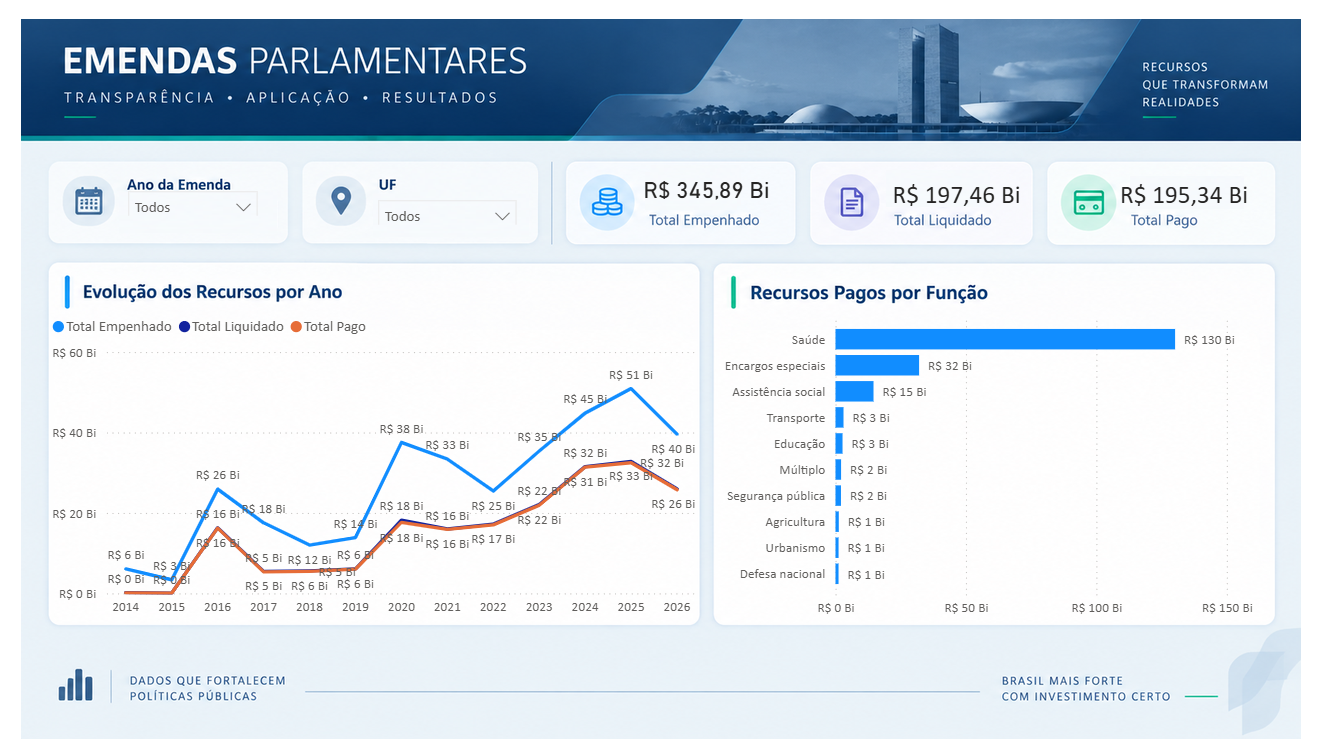

Layout of this report page (visuals, bound fields, positions):
{"tool":"powerbi","page":{"name":"Visão Geral","canvas":[1280,720],"ordinal":0},"visuals":[{"type":"lineChart","fields":{"Category":["EmendasParlamentares.Ano da Emenda"],"Y":["EmendasParlamentares.Total Empenhado","EmendasParlamentares.Total Liquidado","EmendasParlamentares.Total Pago"]},"box":[104.8,294.6,586.6,287.5],"z":0},{"type":"slicer","fields":{"Values":["EmendasParlamentares.Ano da Emenda"]},"box":[168,184,136,32],"z":2000},{"type":"card","fields":{"Values":["EmendasParlamentares.Total Liquidado"]},"box":[856,176,128,40],"z":3000},{"type":"slicer","fields":{"Values":["EmendasParlamentares.UF"]},"box":[392,192,144,32],"z":4000},{"type":"card","fields":{"Values":["EmendasParlamentares.Total Pago"]},"box":[1056,176,136,40],"z":5000},{"type":"barChart","fields":{"Category":["EmendasParlamentares.Nome Função"],"Y":["EmendasParlamentares.Total Pago"]},"box":[704.8,294.6,500.6,287.5],"z":7000},{"type":"card","fields":{"Values":["EmendasParlamentares.Total Empenhado"]},"box":[632,168,128,48],"z":7001}]}

Visuals, with their boxes in screenshot pixels (x1, y1, x2, y2), scaled from the page's 1280x720 canvas onto the 1317x754 screenshot:
lineChart - EmendasParlamentares.Ano da Emenda x EmendasParlamentares.Total Empenhado: 108 309 711 610
slicer - EmendasParlamentares.Ano da Emenda: 173 193 313 226
card - EmendasParlamentares.Total Liquidado: 881 184 1012 226
slicer - EmendasParlamentares.UF: 403 201 551 235
card - EmendasParlamentares.Total Pago: 1087 184 1226 226
barChart - EmendasParlamentares.Nome Função x EmendasParlamentares.Total Pago: 725 309 1240 610
card - EmendasParlamentares.Total Empenhado: 650 176 782 226
